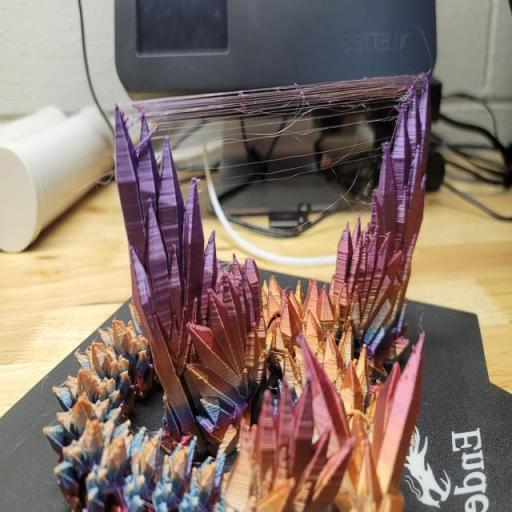stringing: (124, 75, 426, 143)
